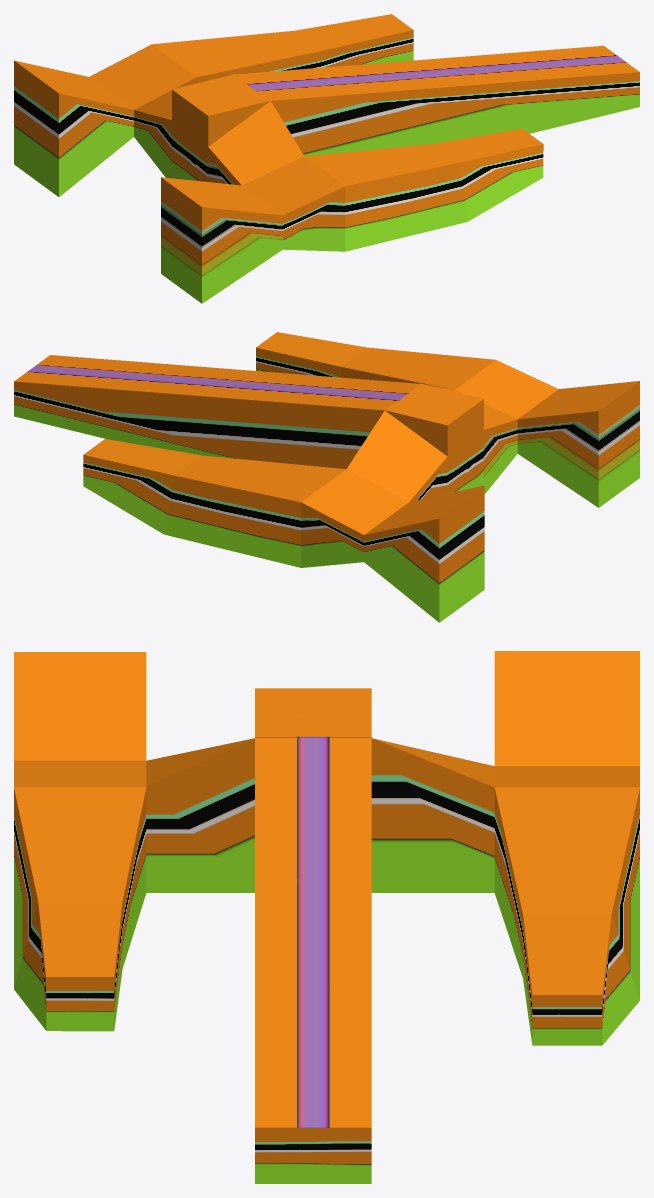
The picture shows the model from 3 angles, top to bottom: view 1: azimuth 30°, elevation 25°; view 2: azimuth 150°, elevation 25°; view 3: azimuth 270°, elevation 25°; orthographic projection. The views are drawn at different scales.
Visible parts, largest first — view 1: Cube; view 2: Cube; view 3: Cube.
Part boxes in pixels (x1=…): Cube: x1=14, y1=14, x2=639, y2=303; Cube: x1=14, y1=332, x2=639, y2=622; Cube: x1=14, y1=651, x2=639, y2=1183.
Bounding box in the file's own units: 16.39 × 3.59 × 10.74.
Materials: 1 (1 with a texture image).
